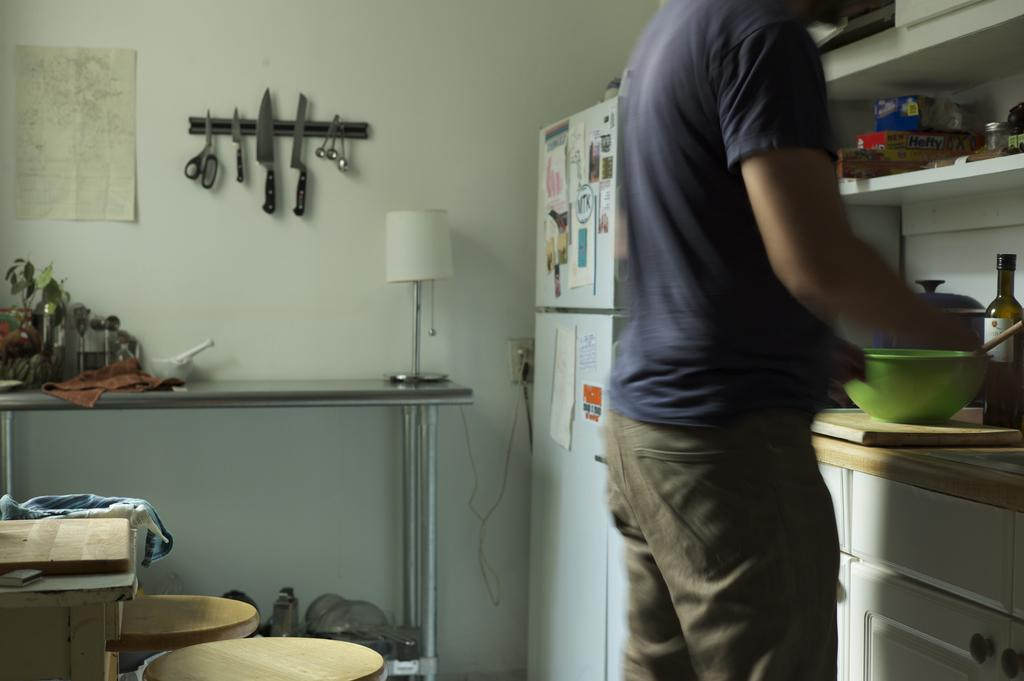cabinet_door: (850, 569, 986, 681)
handle: (959, 628, 999, 674), (996, 646, 1024, 680)
